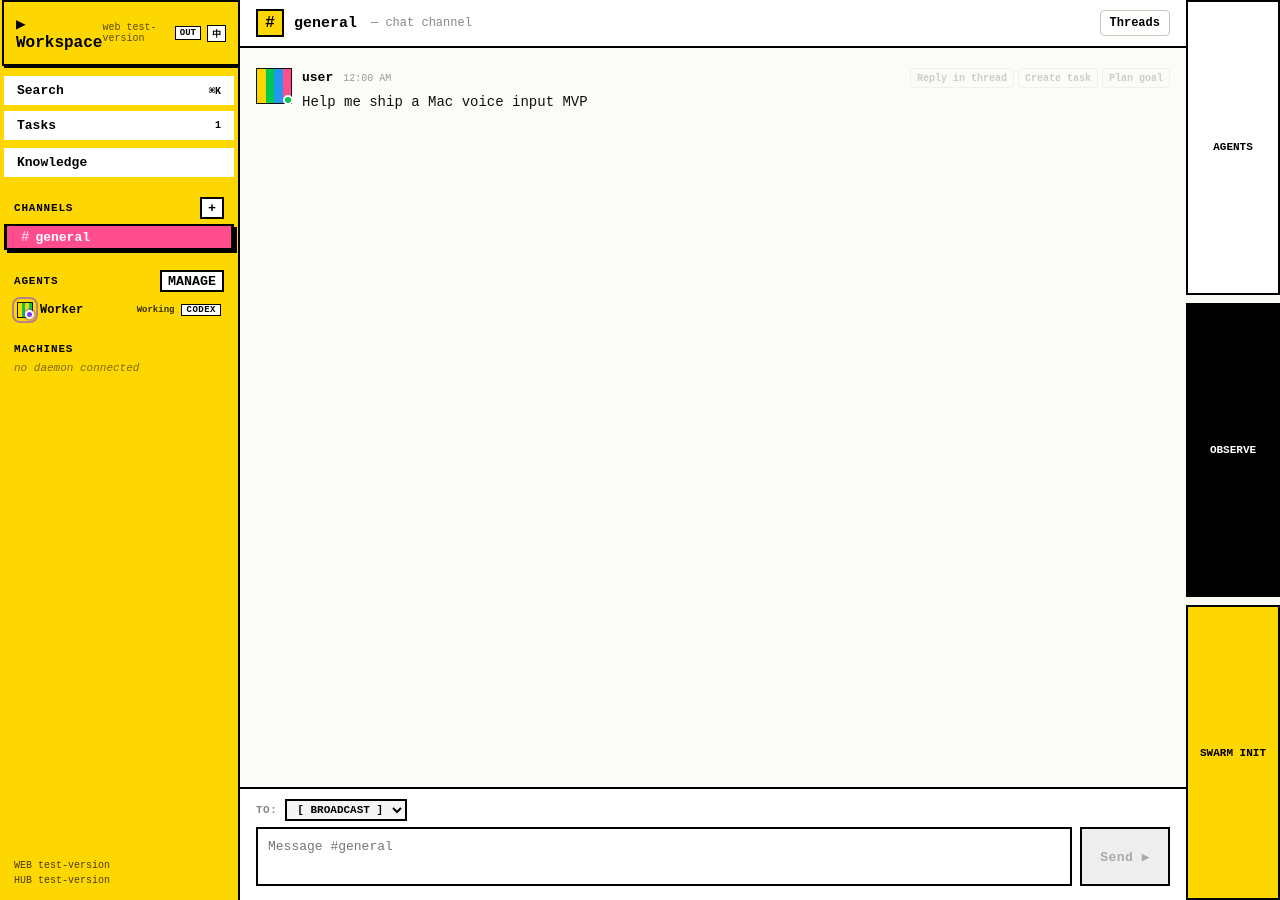
it: App › warns before deleting a working agent from the detail panel
The image size is (1280, 900).
Click the text "Worker": x=62, y=310 [40, 303, 83, 317]
(page scrolled)
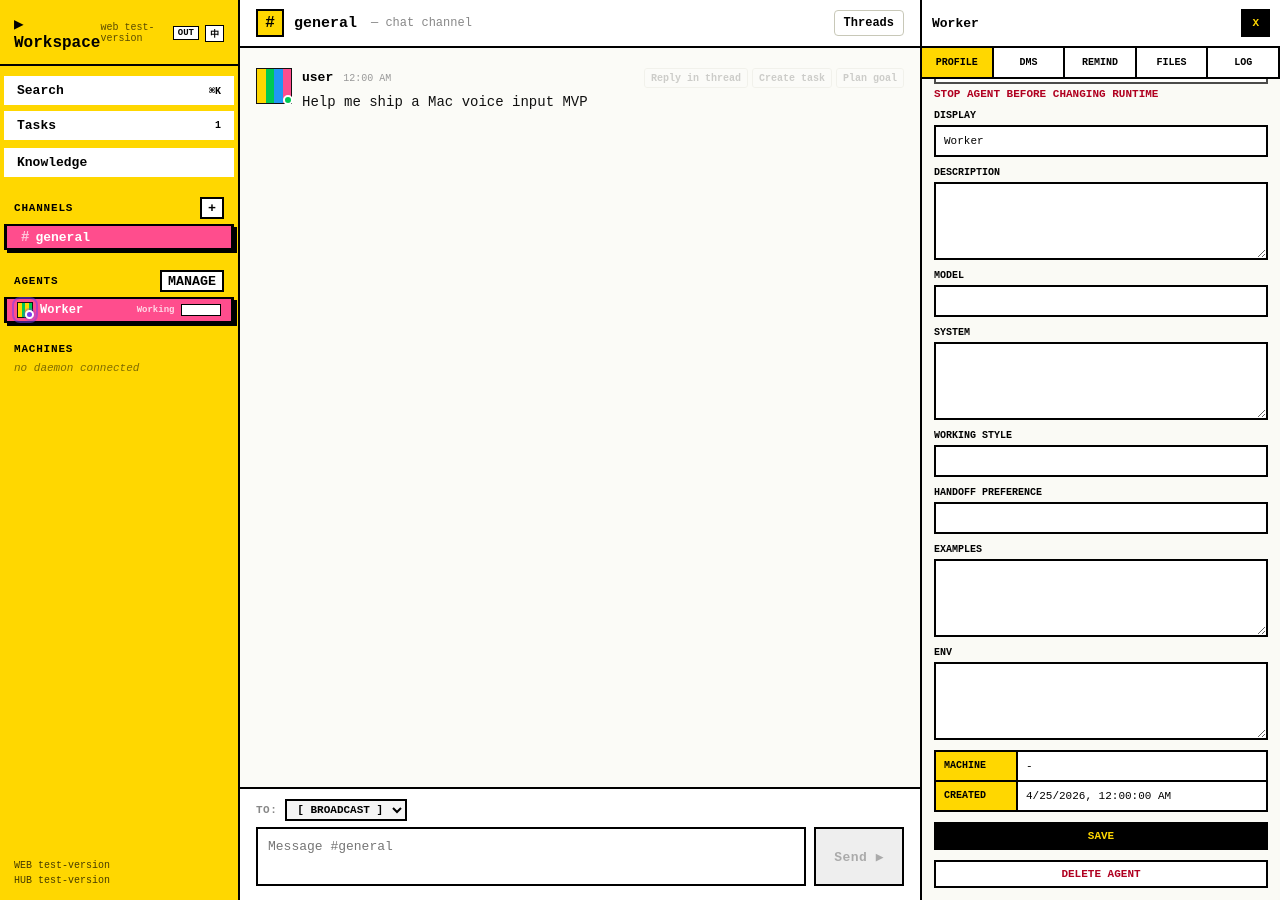
Click the button "DELETE AGENT": x=1101, y=874 [934, 860, 1268, 888]
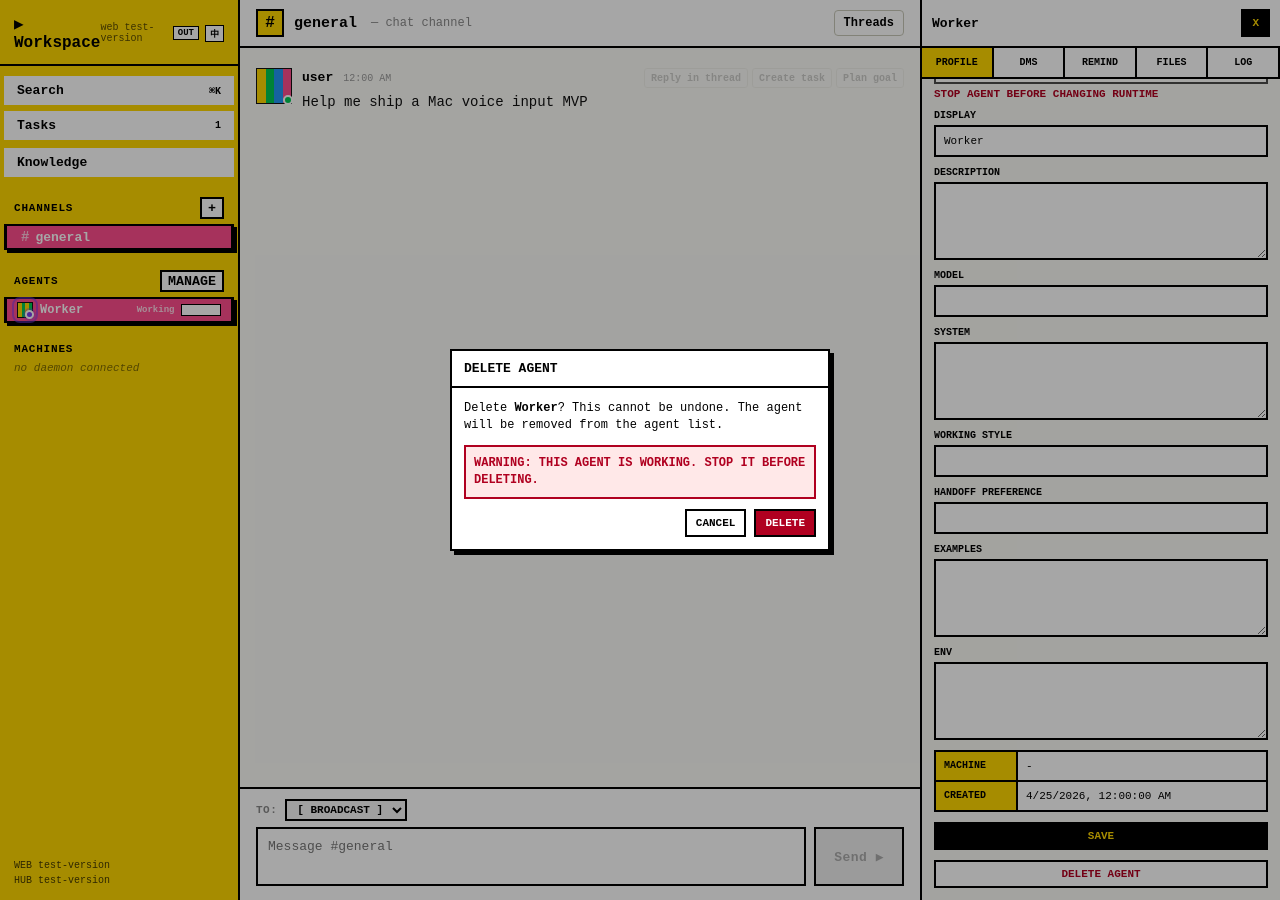
Now the text "WARNING: THIS AGENT IS WORKING. STOP IT BEFORE DELETING." is shown, box [464, 444, 816, 499]
Click the button "DELETE": x=785, y=523 [754, 509, 816, 537]
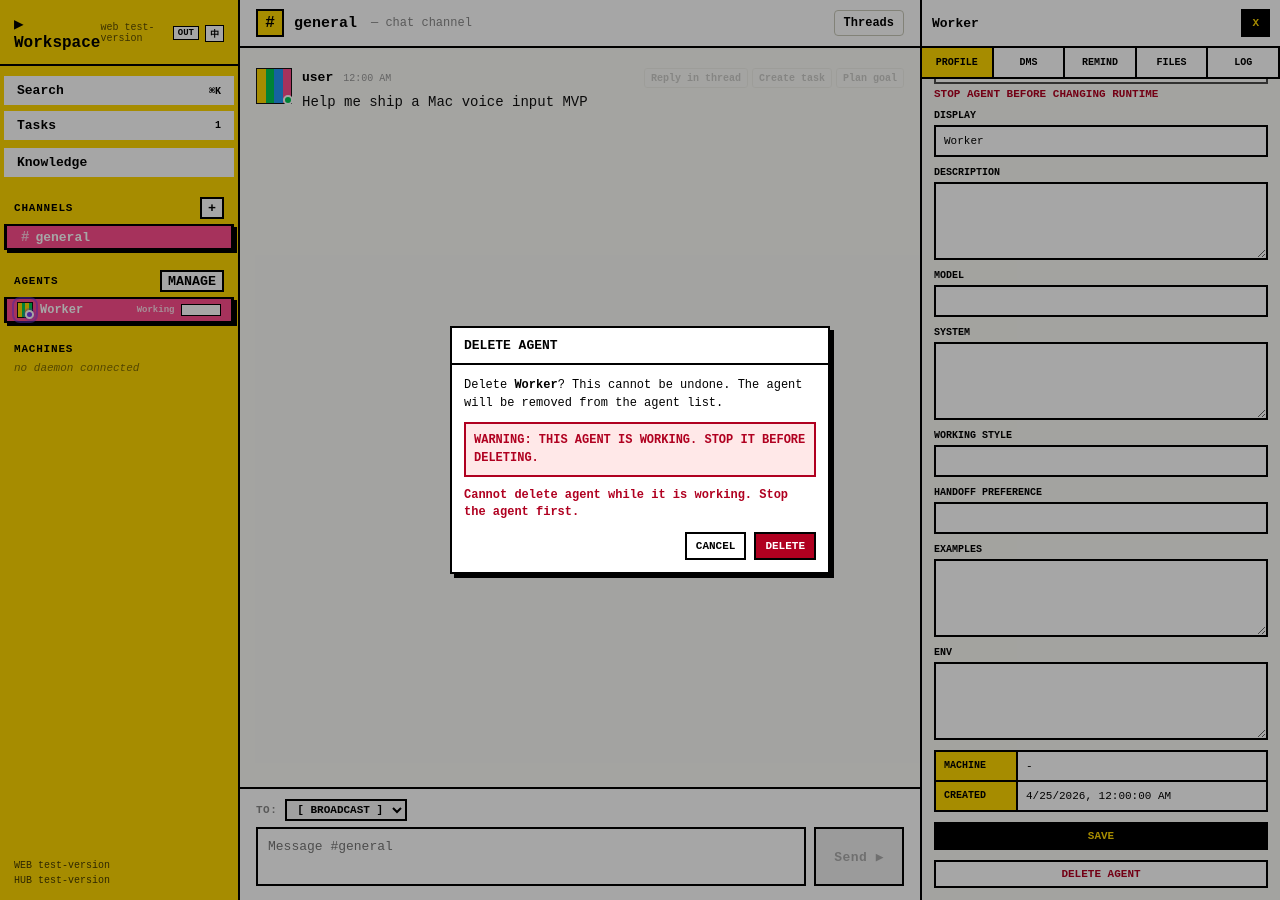
Now the text "Stop the agent first" is shown, box [464, 488, 788, 519]
